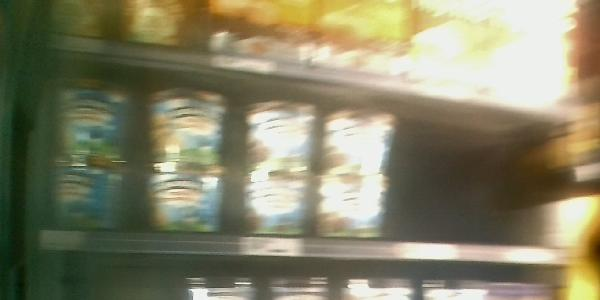icecream: (315, 95, 409, 254), (44, 63, 129, 173), (139, 77, 237, 171), (131, 158, 238, 244), (42, 154, 130, 240), (243, 160, 316, 262), (244, 82, 314, 180)
